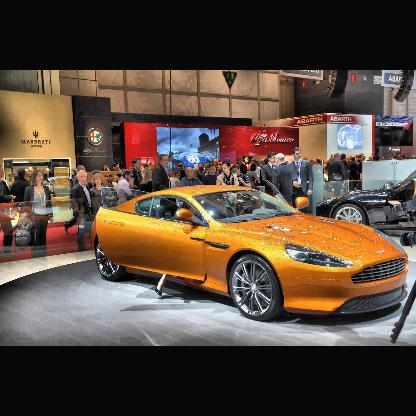Aston Martin Virage Coupe 2012: (81, 179, 416, 331)
